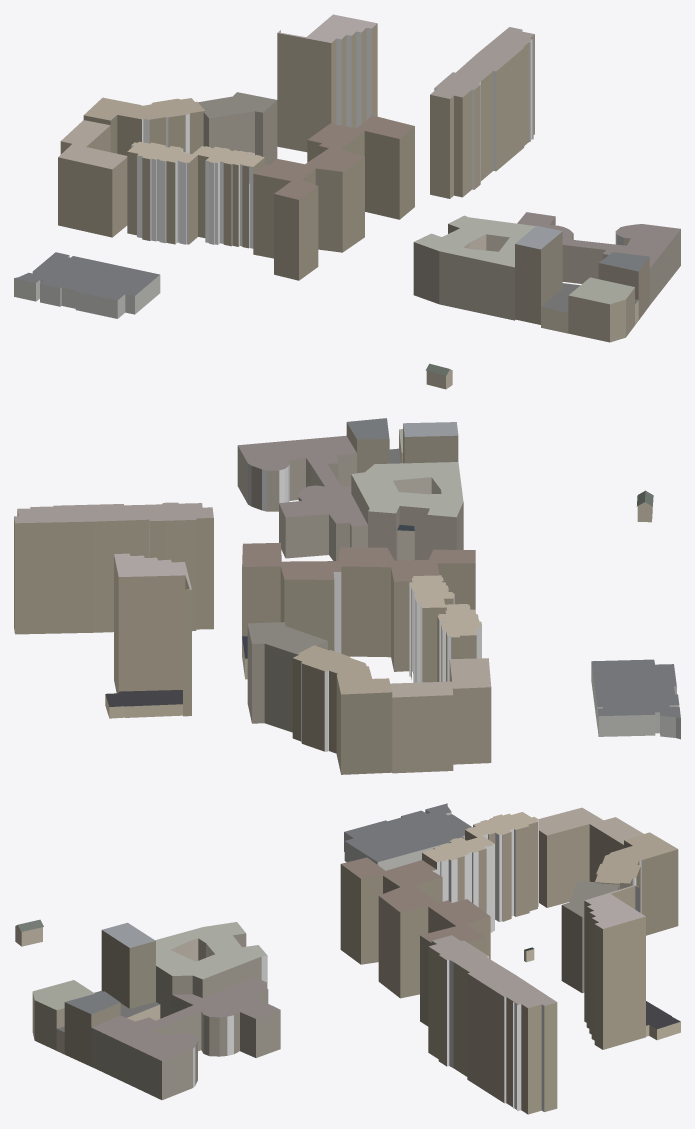
3 renders of one model, top to bottom at view 1: azimuth 30°, elevation 25°; view 2: azimuth 150°, elevation 25°; view 3: azimuth 270°, elevation 25°, orthographic. The views are drawn at different scales.
Visible parts, largest first — view 1: tuile; view 2: tuile; view 3: tuile.
Part boxes in pixels (x1,y1,x2,y2): tuile: (14, 14, 680, 389); tuile: (14, 418, 680, 774); tuile: (15, 803, 680, 1114).
Size of the model in its own units: 268 by 54.12 by 261.
